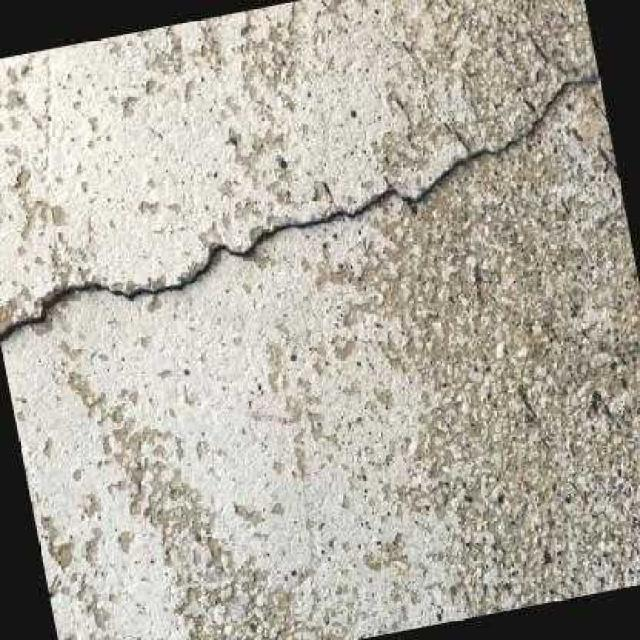D00: (0, 74, 600, 343)
